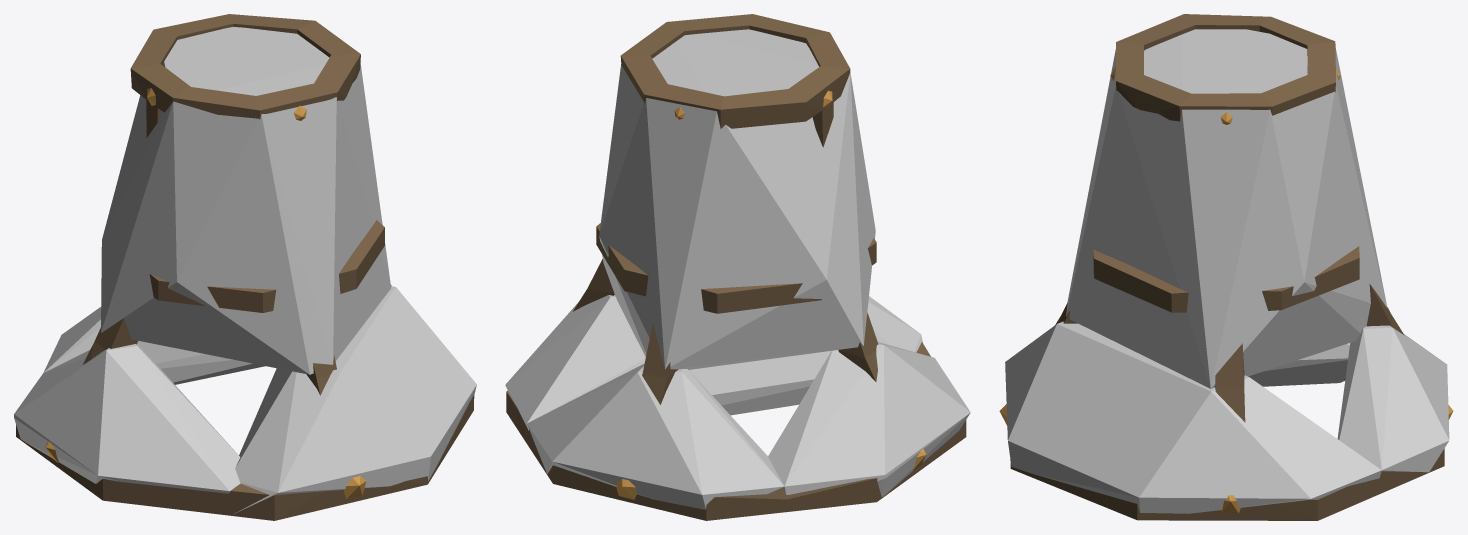
File: SM_Prop_Potion_Stand_02.fbx
The picture shows the model from 3 angles, left to right: view 1: azimuth 30°, elevation 25°; view 2: azimuth 150°, elevation 25°; view 3: azimuth 270°, elevation 25°; orthographic projection.
Visible parts, largest first — view 1: SM_Prop_Potion_Stand_02_ConvexHulls, SM_Prop_Potion_Stand_02; view 2: SM_Prop_Potion_Stand_02_ConvexHulls, SM_Prop_Potion_Stand_02; view 3: SM_Prop_Potion_Stand_02_ConvexHulls, SM_Prop_Potion_Stand_02.
Boxes of the visible parts, x1,y1,x2,y2 form: SM_Prop_Potion_Stand_02_ConvexHulls: [14, 26, 476, 514]; SM_Prop_Potion_Stand_02: [16, 14, 474, 520]; SM_Prop_Potion_Stand_02_ConvexHulls: [505, 29, 970, 509]; SM_Prop_Potion_Stand_02: [506, 14, 966, 520]; SM_Prop_Potion_Stand_02_ConvexHulls: [1005, 29, 1449, 513]; SM_Prop_Potion_Stand_02: [999, 14, 1453, 520].
Size of the model in its own units: 41.76 by 41.84 by 38.18.
2 materials, 1 textured.
